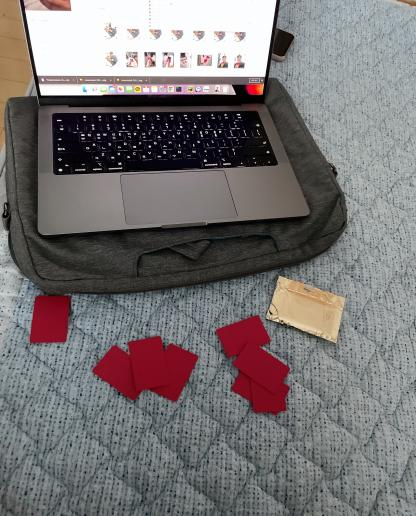ThreeHwatoo: (92, 331, 204, 414)
